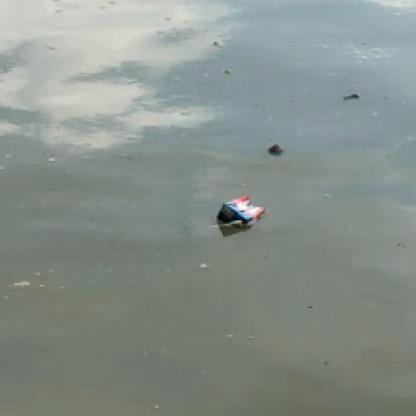Trash: (215, 194, 267, 235)
